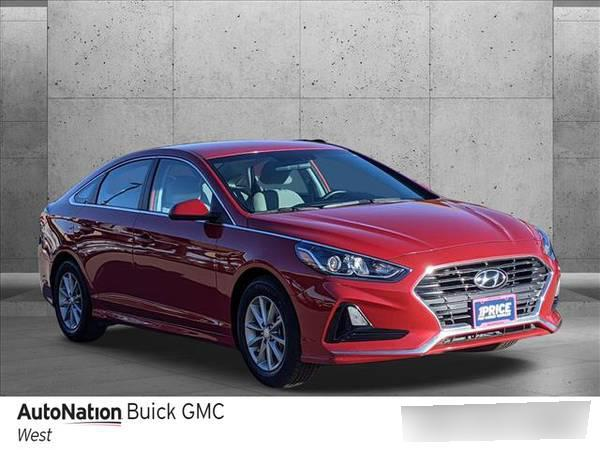Front_Bumper: (289, 237, 563, 361)
Front_Fender: (215, 225, 326, 344)
Front_Right_Door: (139, 209, 224, 340)
Front_Right_Window: (144, 155, 230, 224)
Front_Windshield: (210, 147, 436, 212)
Grille: (413, 255, 550, 352)
Hood: (246, 198, 547, 259)
Rear_Fender: (35, 172, 101, 303)
Rear_Right_Door: (74, 204, 144, 321)
Rear_Right_Window: (83, 156, 157, 210)
Right_Headlight: (296, 238, 412, 283)
Roof: (49, 139, 347, 226)
Wheel: (236, 279, 315, 386), (51, 256, 107, 338)
